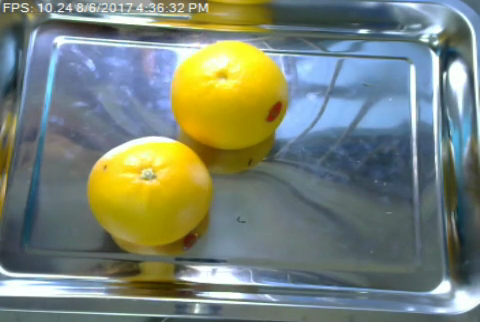Orange: (86, 133, 212, 246), (169, 40, 291, 152)
